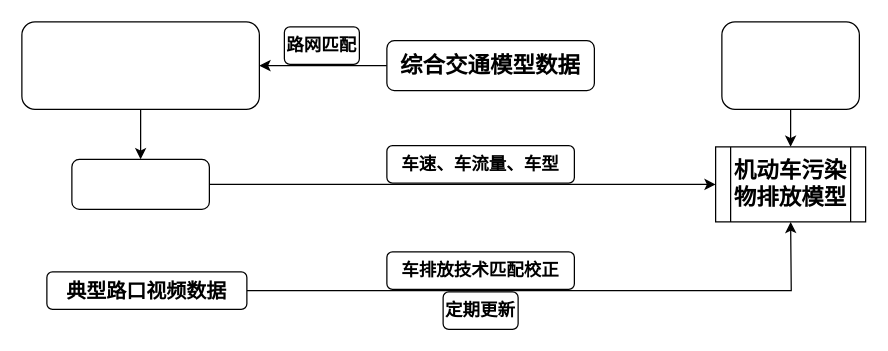
Some shapes in this 888 by 351 pixel diagram are drawn without their labels. Here are the shapes that lost their labels. From the top down, the centre of each, then its label:
[140,65]: 交通发布段车速状态数据 全市地磁传感器数据 快速路交通数据
[790,65]: 车辆技术分布 车辆工况 修正因子 环保政策
[140,183]: 全路网交通 流数据接口
